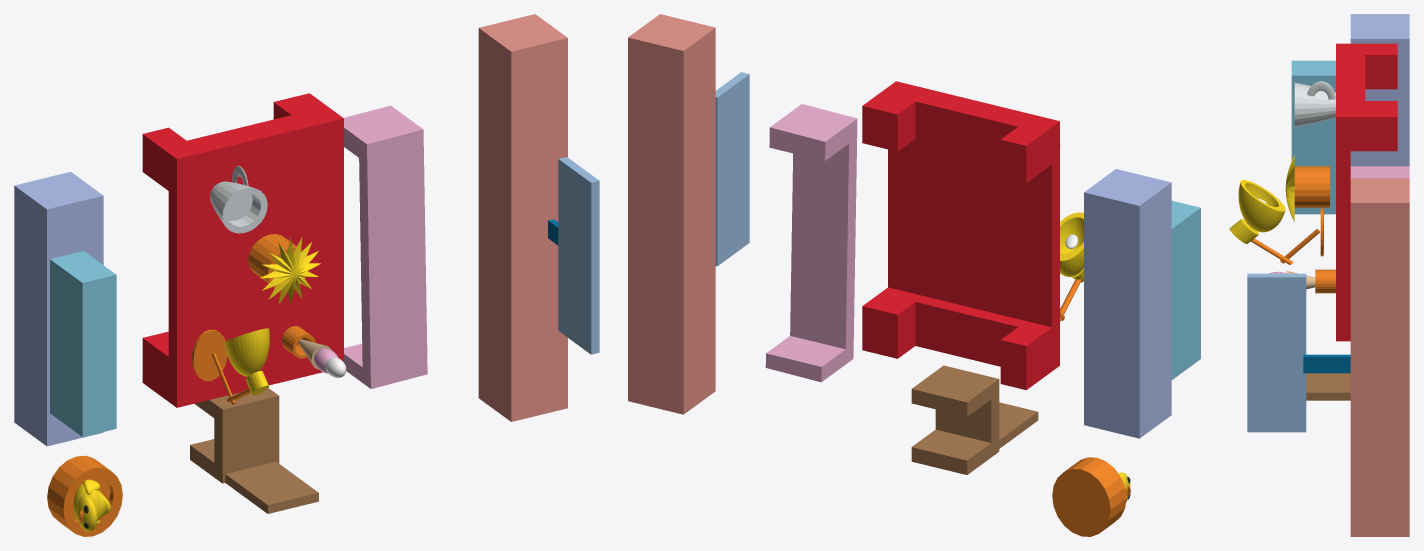
Rendered from tinker.obj.
3 views of the same model, side by side, from view 1: azimuth 30°, elevation 25°; view 2: azimuth 150°, elevation 25°; view 3: azimuth 270°, elevation 25° (orthographic). The views are drawn at different scales.
Visible parts, largest first — view 1: group_0_15277357, group_0_15308428, group_0_15708628, group_0_11452141, group_0_8768998, group_0_11107152, group_0_10405353, group_0_16089887, group_0_16768282, group_0_14541540; view 2: group_0_15277357, group_0_15308428, group_0_11452141, group_0_15708628, group_0_11107152, group_0_10405353, group_0_8768998, group_0_16089887, group_0_16768282; view 3: group_0_15308428, group_0_10405353, group_0_15277357, group_0_11452141, group_0_8768998, group_0_16089887, group_0_16768282, group_0_14541540, group_0_11107152, group_0_30377, group_0_15708628.
Boxes of the visible parts, box(x1,y1,x2,y2) form: group_0_15277357: box(142, 93, 343, 407); group_0_15308428: box(478, 14, 567, 421); group_0_15708628: box(314, 105, 427, 388); group_0_11452141: box(14, 172, 103, 446); group_0_8768998: box(50, 251, 116, 436); group_0_11107152: box(190, 388, 318, 513); group_0_10405353: box(558, 157, 599, 354); group_0_16089887: box(47, 234, 315, 536); group_0_16768282: box(73, 237, 320, 531); group_0_14541540: box(210, 165, 267, 233); group_0_15277357: box(862, 81, 1059, 390); group_0_15308428: box(628, 14, 715, 414); group_0_11452141: box(1084, 169, 1171, 438); group_0_15708628: box(765, 104, 857, 382); group_0_11107152: box(911, 365, 1038, 474); group_0_10405353: box(715, 72, 749, 266); group_0_8768998: box(1171, 200, 1200, 379); group_0_16089887: box(1052, 279, 1130, 536); group_0_16768282: box(1060, 212, 1130, 501); group_0_15308428: box(1350, 178, 1409, 536); group_0_10405353: box(1247, 273, 1306, 432); group_0_15277357: box(1336, 43, 1397, 341); group_0_11452141: box(1350, 14, 1409, 166); group_0_8768998: box(1291, 60, 1335, 214); group_0_16089887: box(1251, 166, 1335, 293); group_0_16768282: box(1229, 155, 1294, 243); group_0_14541540: box(1294, 81, 1335, 126); group_0_11107152: box(1306, 373, 1350, 400); group_0_30377: box(1303, 354, 1350, 373); group_0_15708628: box(1270, 166, 1409, 273).
Bounding box in the file's own units: 184 × 134 × 61.1.
